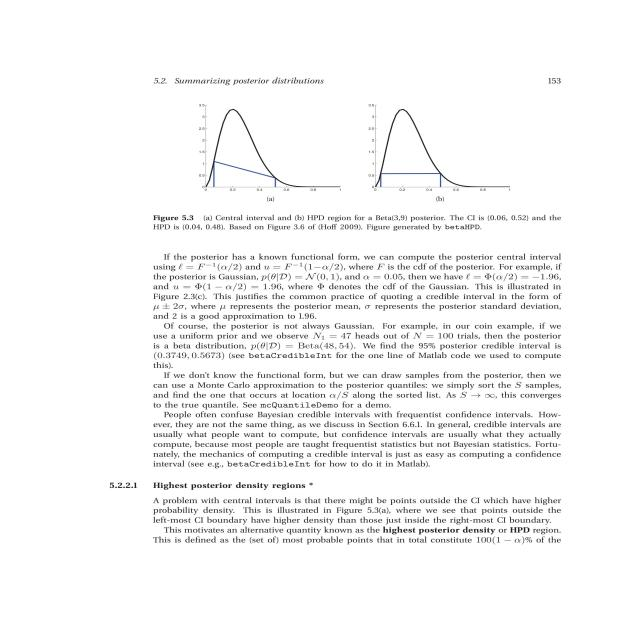diagram: (143, 97, 571, 242)
